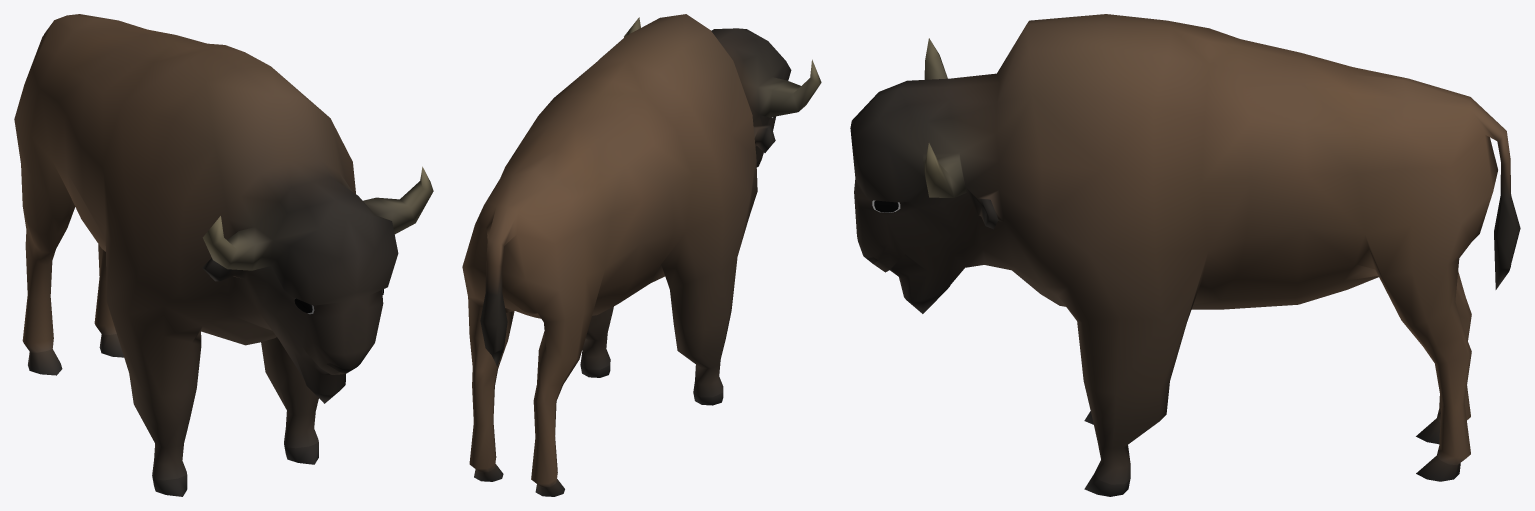
The model's file is animals-animals-bison_v1.fbx.
3 views of the same model, side by side, from view 1: azimuth 30°, elevation 25°; view 2: azimuth 150°, elevation 25°; view 3: azimuth 270°, elevation 25° (orthographic). The views are drawn at different scales.
Visible parts, largest first — view 1: Bison.001; view 2: Bison.001; view 3: Bison.001.
Part boxes in pixels (x1,y1,x2,y2): Bison.001: [14, 14, 433, 496]; Bison.001: [462, 14, 821, 496]; Bison.001: [850, 14, 1520, 496].
Size of the model in its own units: 1.05 by 1.79 by 2.52.
